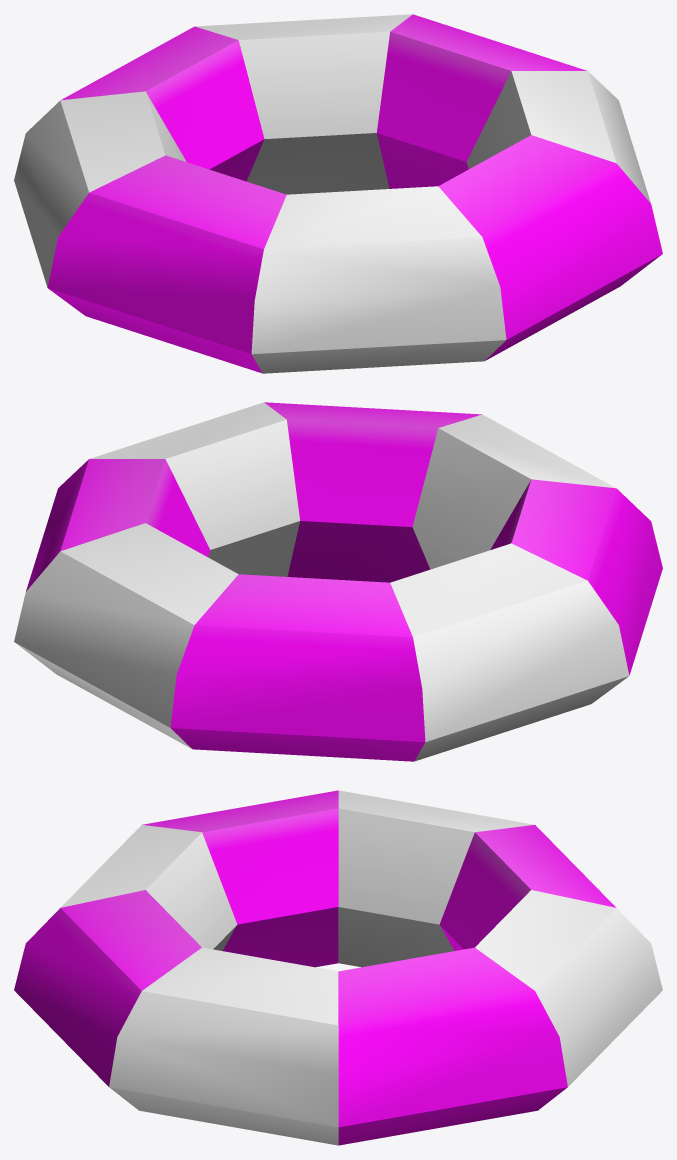
File: Pelampung4.fbx
3 views of the same model, one above another, from view 1: azimuth 30°, elevation 25°; view 2: azimuth 150°, elevation 25°; view 3: azimuth 270°, elevation 25° (orthographic). The views are drawn at different scales.
Parts seen in each view (by area): view 1: Prop_SwimmingRing_00; view 2: Prop_SwimmingRing_00; view 3: Prop_SwimmingRing_00.
Boxes of the visible parts, x1,y1,x2,y2 form: Prop_SwimmingRing_00: (14,14,662,373); Prop_SwimmingRing_00: (14,402,662,761); Prop_SwimmingRing_00: (14,790,662,1145).
Size of the model in its own units: 51.25 by 13.49 by 51.25.
